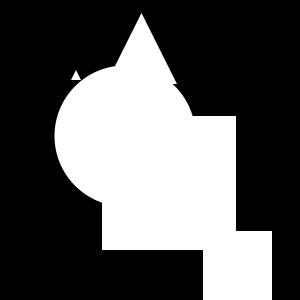circle: (102, 116, 236, 250), (203, 231, 272, 300)
rectangle: (55, 66, 195, 206)
triangle: (106, 13, 177, 84), (71, 70, 81, 80)
